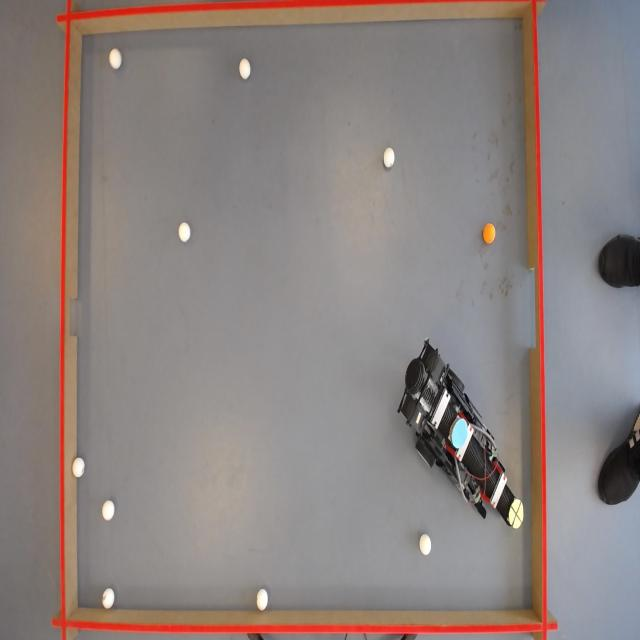orange: (483, 223, 498, 244)
robot: (400, 343, 532, 535)
robot-front: (510, 498, 526, 528)
robot-rear: (452, 418, 469, 450)
white: (255, 589, 269, 612), (72, 457, 86, 480), (239, 58, 253, 80), (108, 49, 122, 71), (102, 588, 116, 610), (177, 221, 191, 242), (419, 534, 432, 556), (102, 501, 115, 523), (384, 148, 396, 170)
